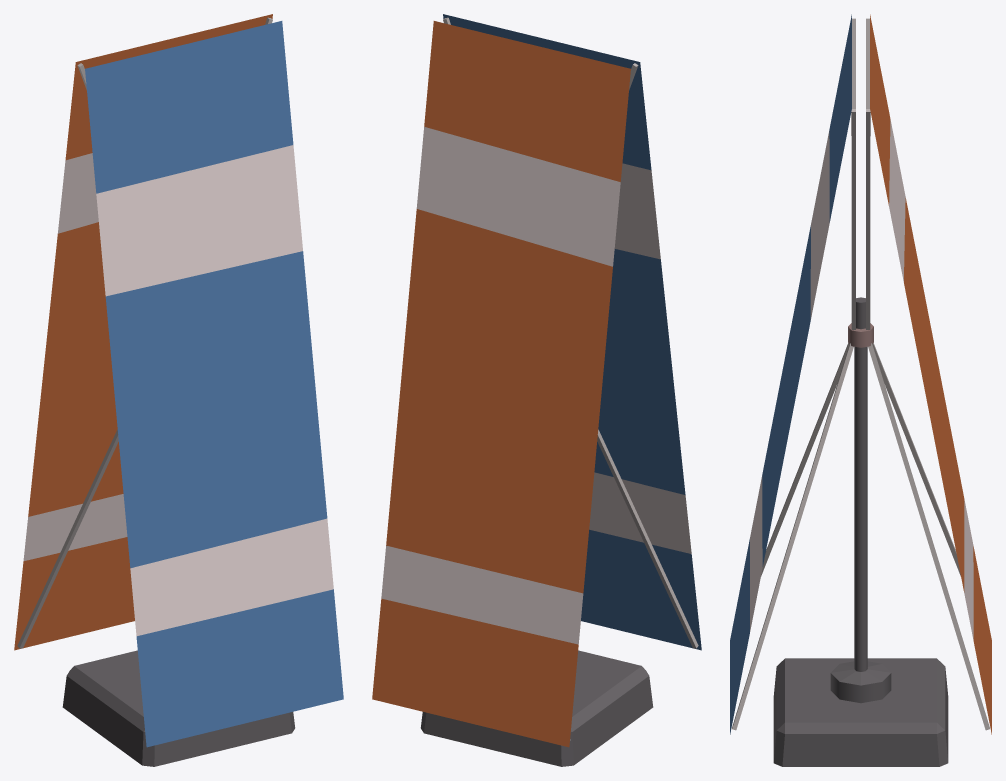
File: Standing_banner01.fbx
3 renders of one model, left to right at view 1: azimuth 30°, elevation 25°; view 2: azimuth 150°, elevation 25°; view 3: azimuth 270°, elevation 25°, orthographic.
Visible parts, largest first — view 1: Standing_banner_01; view 2: Standing_banner_01; view 3: Standing_banner_01.
Boxes of the visible parts, x1,y1,x2,y2 form: Standing_banner_01: (14, 14, 343, 766); Standing_banner_01: (372, 14, 701, 766); Standing_banner_01: (730, 14, 991, 766).
Size of the model in its own units: 51.56 by 59.96 by 169.
